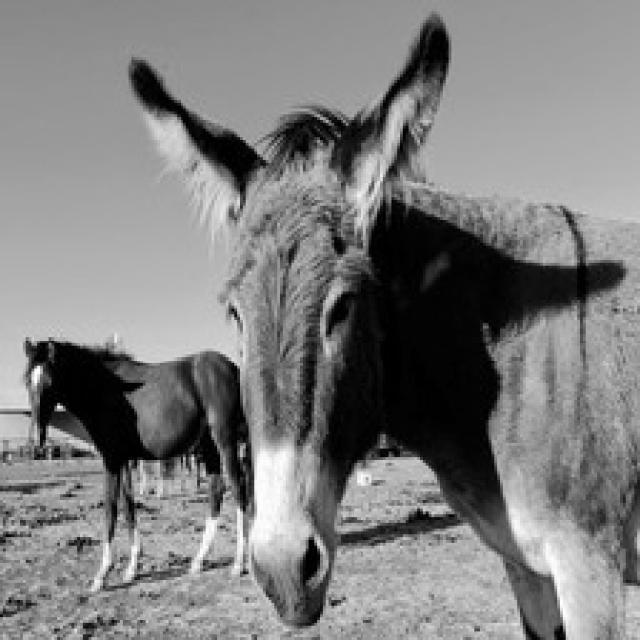Donkey: (126, 12, 637, 637), (20, 334, 249, 592)
